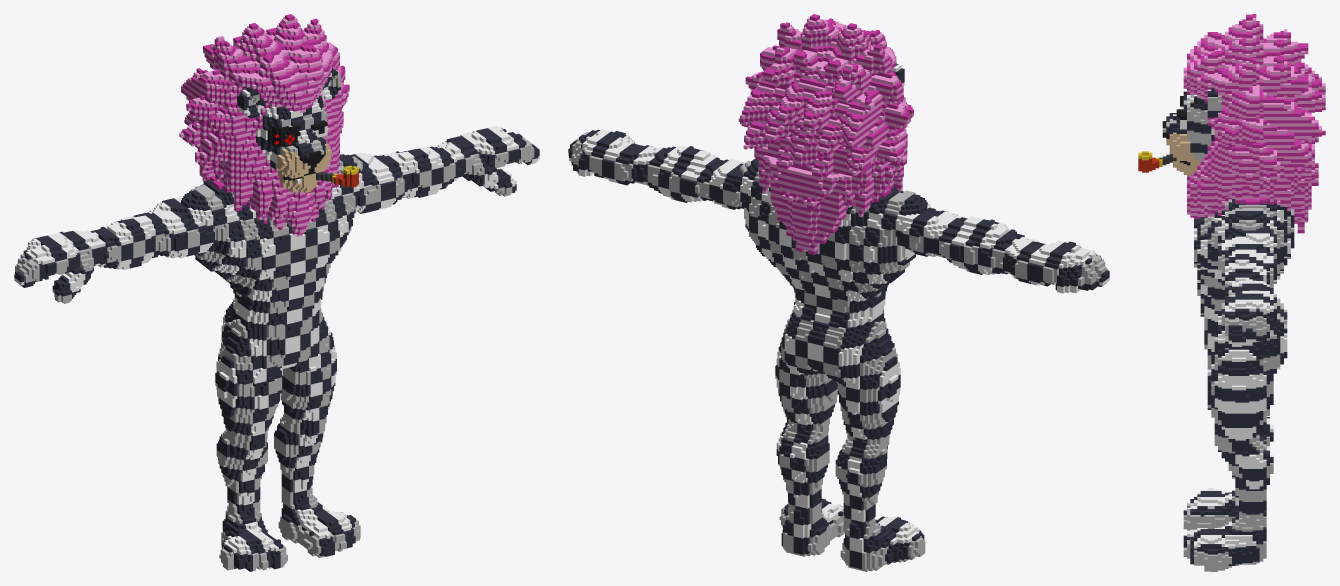
File: 799-Dgt4oz1A.glb
The picture shows the model from 3 angles, left to right: view 1: azimuth 30°, elevation 25°; view 2: azimuth 150°, elevation 25°; view 3: azimuth 270°, elevation 25°; orthographic projection. The views are drawn at different scales.
Parts seen in each view (by area): view 1: pipe; view 2: pipe; view 3: pipe.
Boxes of the visible parts, bbox=[...] form: pipe: bbox=[14, 14, 539, 571]; pipe: bbox=[568, 14, 1109, 571]; pipe: bbox=[1138, 14, 1325, 571].
Size of the model in its own units: 17.2 by 16.5 by 5.4.
Materials: 4 (4 with a texture image).
